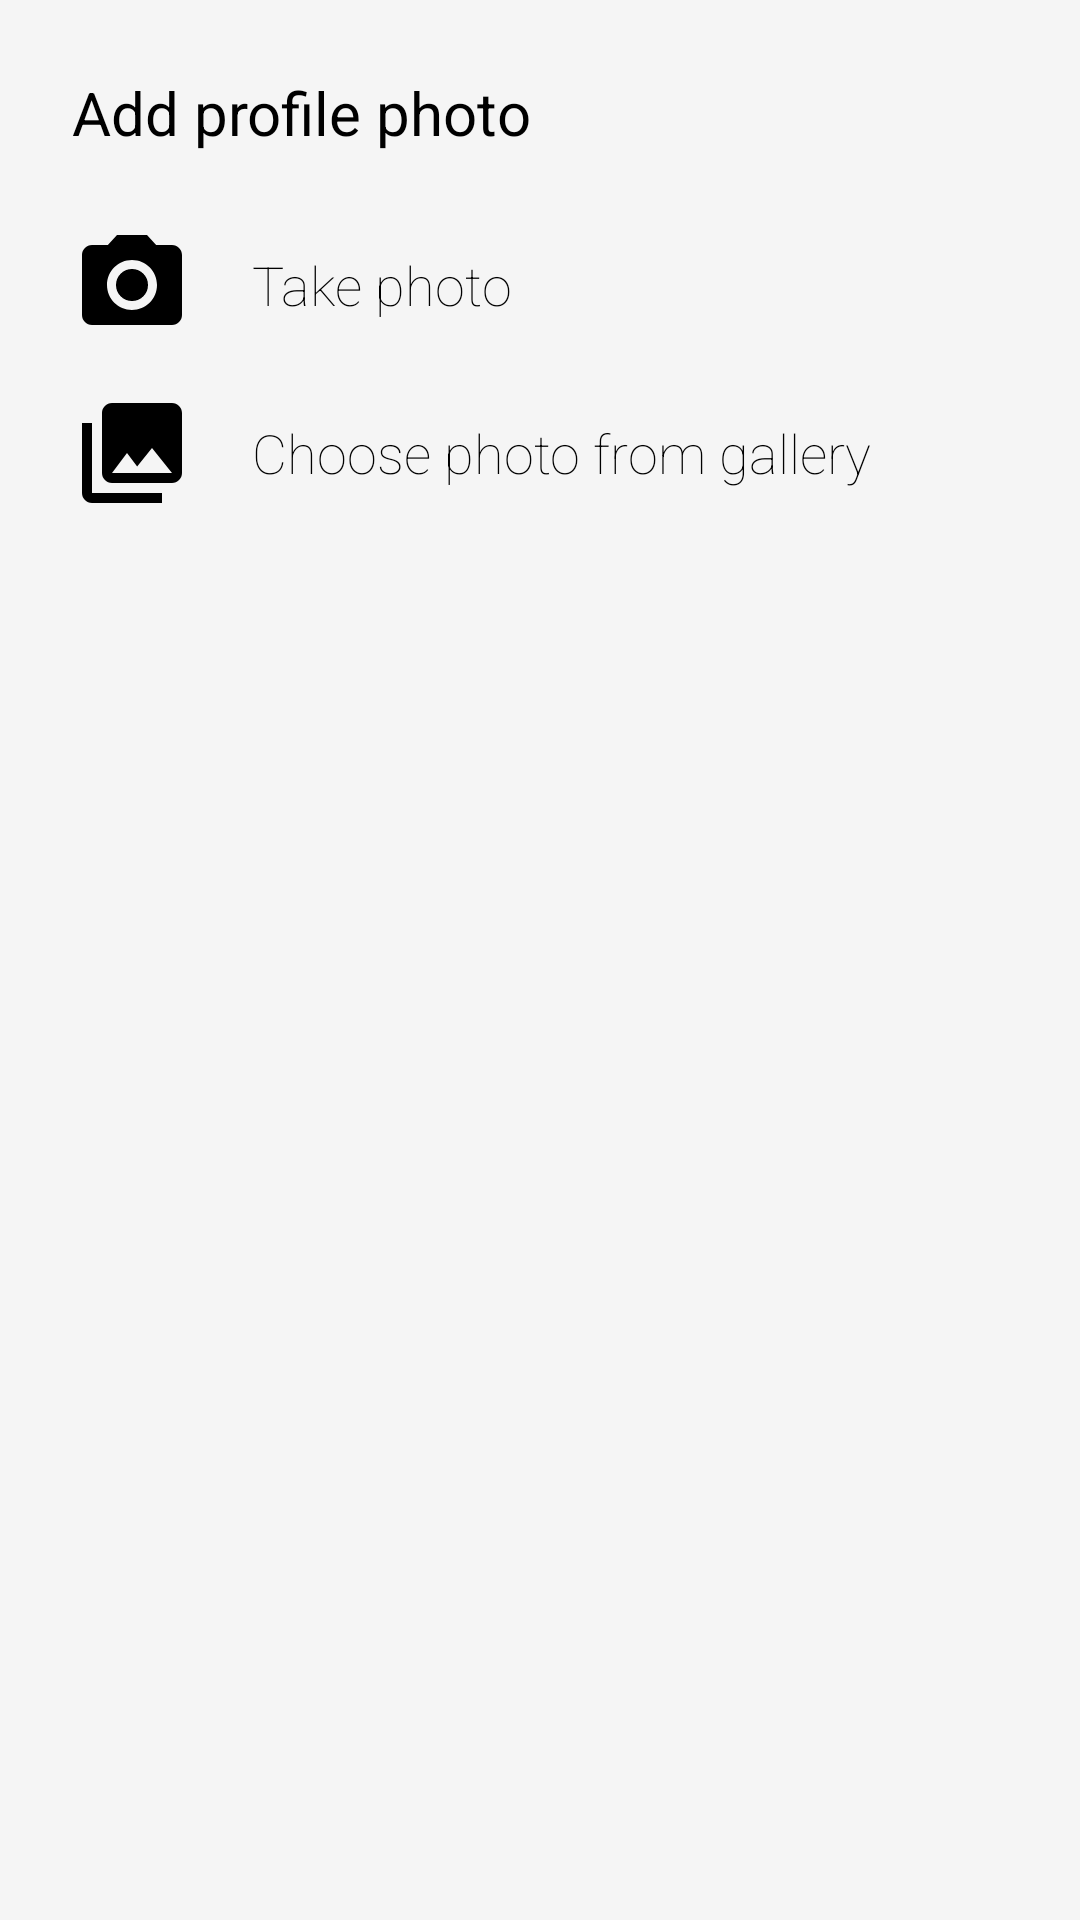

Locate icon controls on the screen. Image size 1080*1920, boxes as [x1=x1, y1=y1, x2=x2, y2=y2].
camera: [x1=82, y1=235, x2=182, y2=325]
